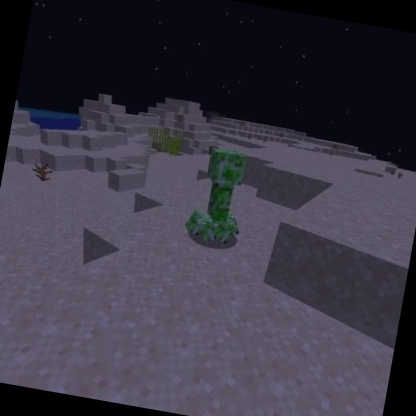creeper: (179, 140, 258, 254)
